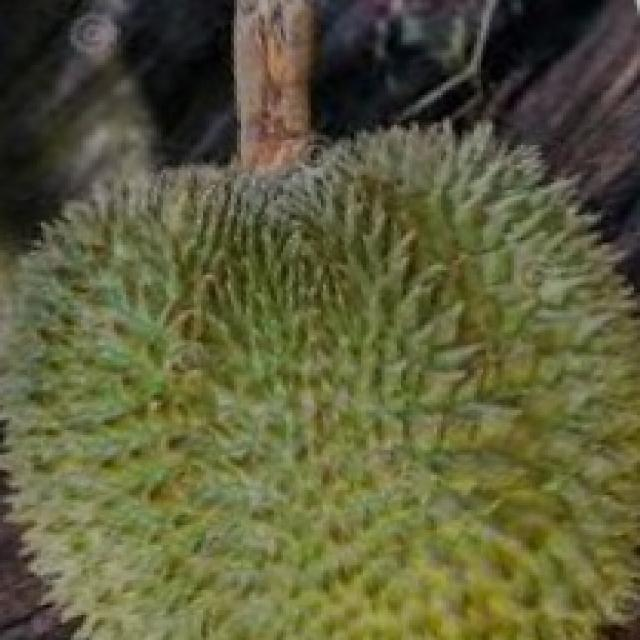fruit: (231, 78, 640, 492)
